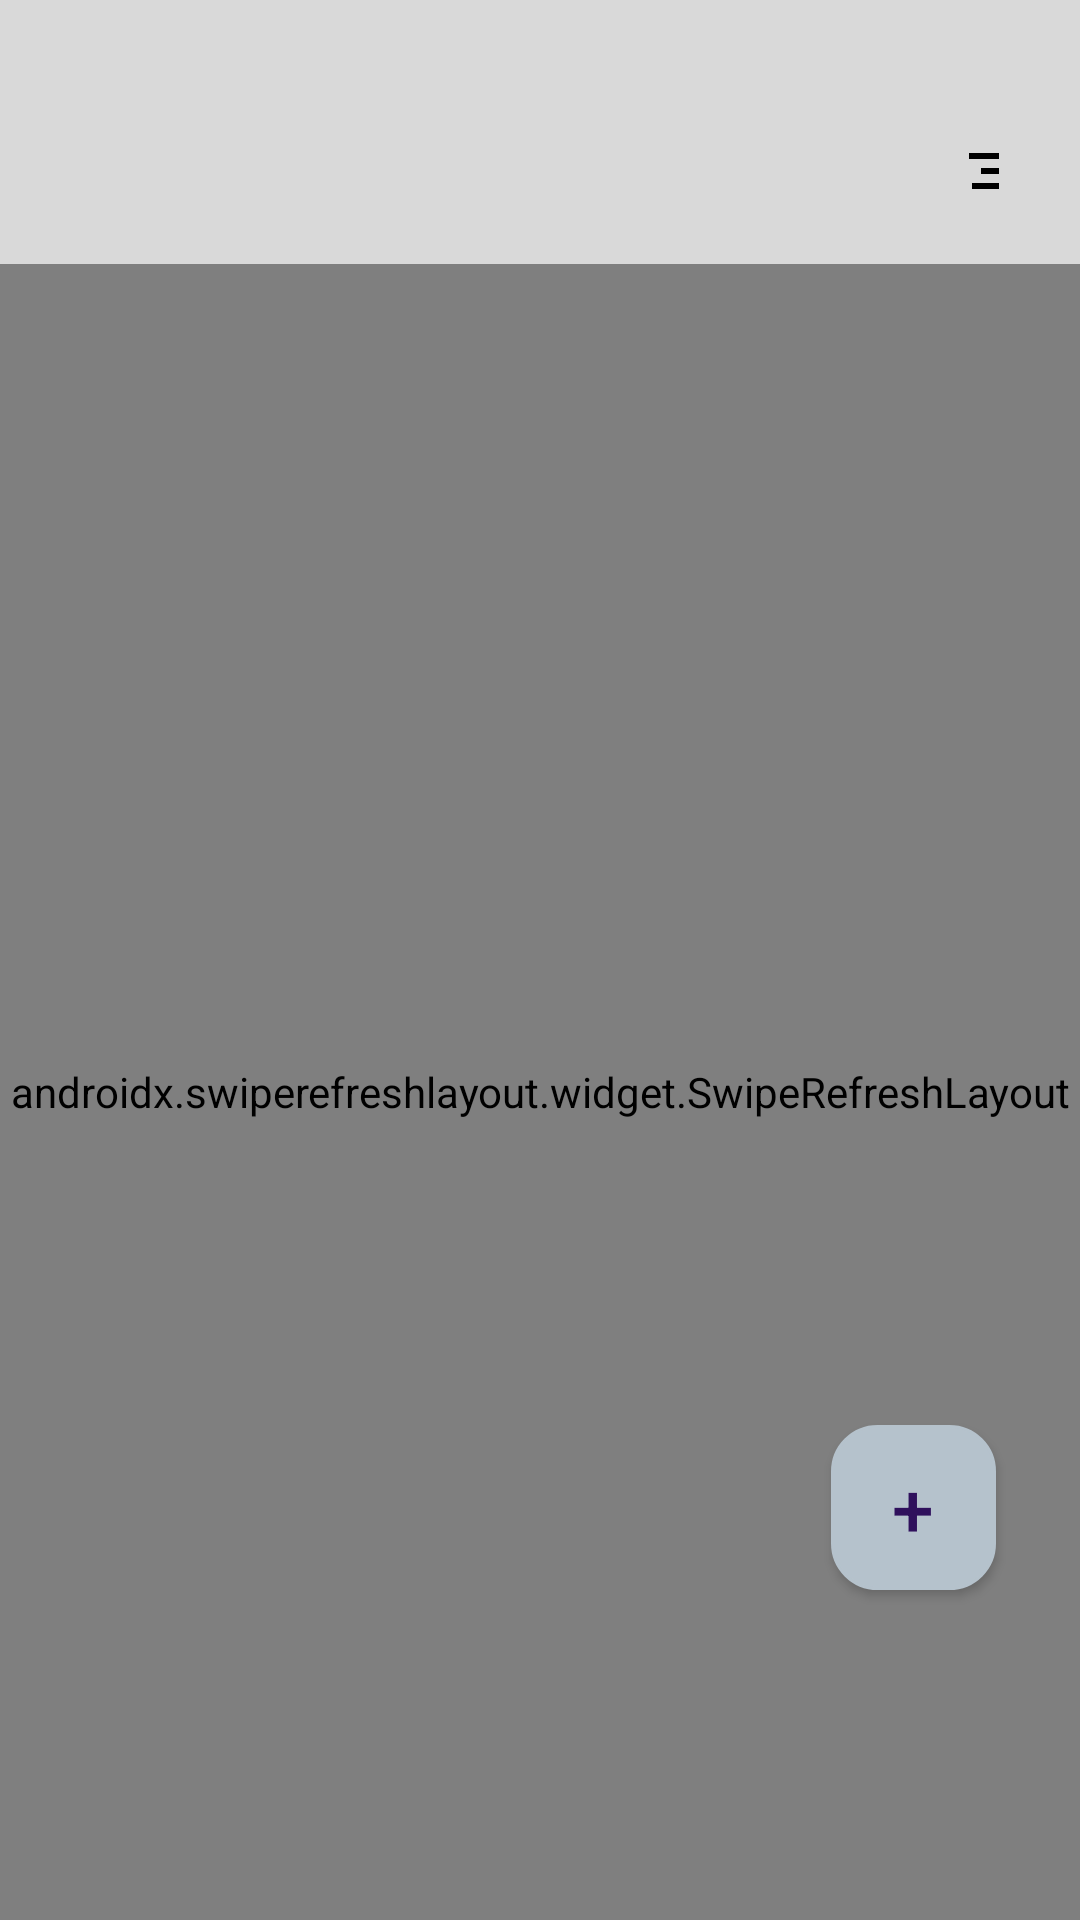

Icon bounding boxes for this 1080 × 1920 phone screenshot, format (left=x1, top=y1, right=x2, bottom=y2):
Menu lainnya: (left=969, top=153, right=999, bottom=189)
